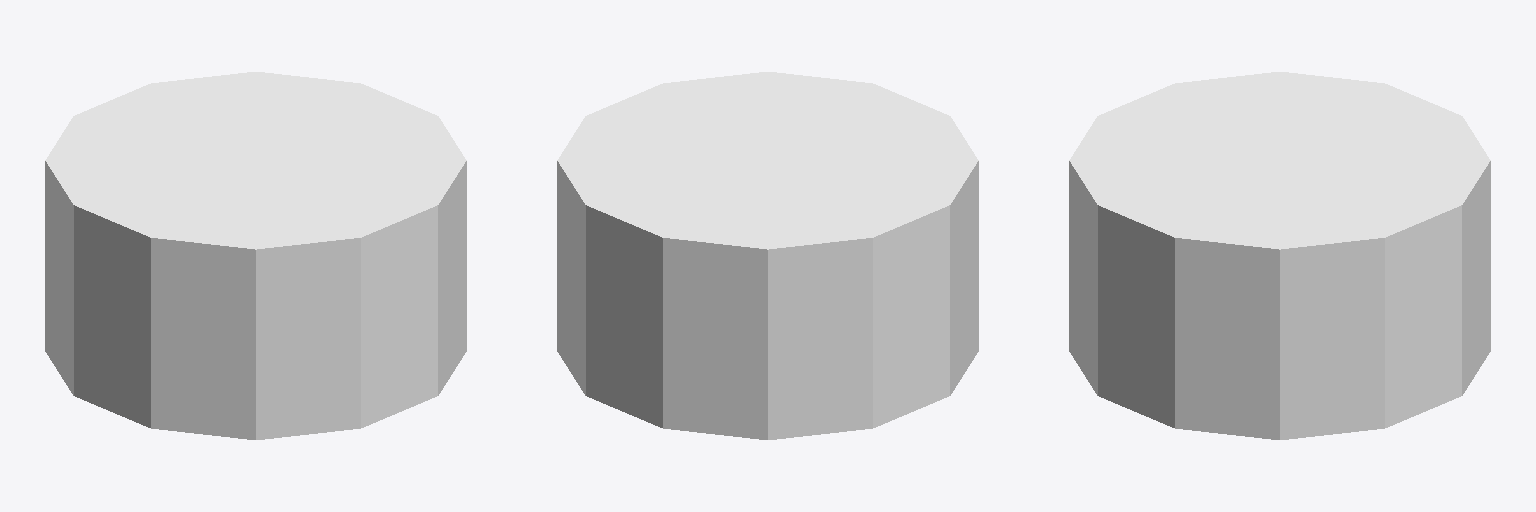
Rendered from LightBulb0.obj.
3 renders of one model, left to right at view 1: azimuth 30°, elevation 25°; view 2: azimuth 150°, elevation 25°; view 3: azimuth 270°, elevation 25°, orthographic.
Visible parts, largest first — view 1: LightBulb0; view 2: LightBulb0; view 3: LightBulb0.
Part boxes in pixels (bbox=[...]): LightBulb0: bbox=[45, 72, 466, 439]; LightBulb0: bbox=[557, 72, 978, 439]; LightBulb0: bbox=[1069, 72, 1490, 439].
Bounding box in the file's own units: 0.1 × 0.05 × 0.1.